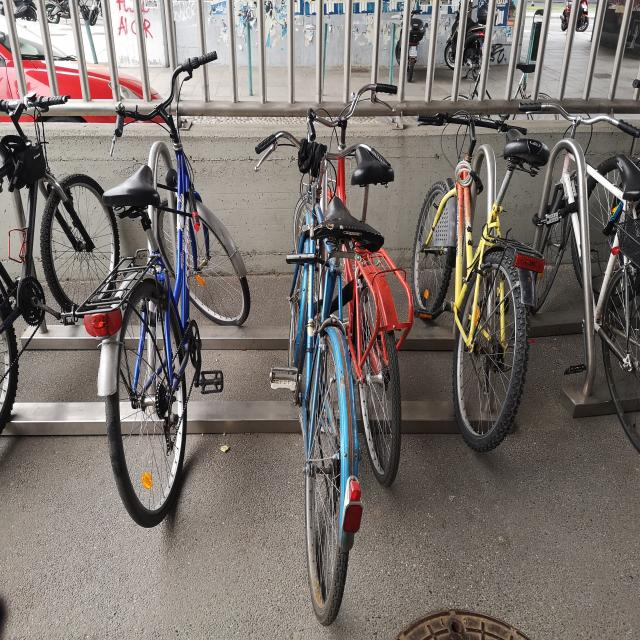Bicycle: (92, 83, 247, 515), (408, 88, 556, 468), (0, 91, 97, 483), (306, 92, 373, 640), (535, 104, 640, 438), (345, 118, 412, 460)
